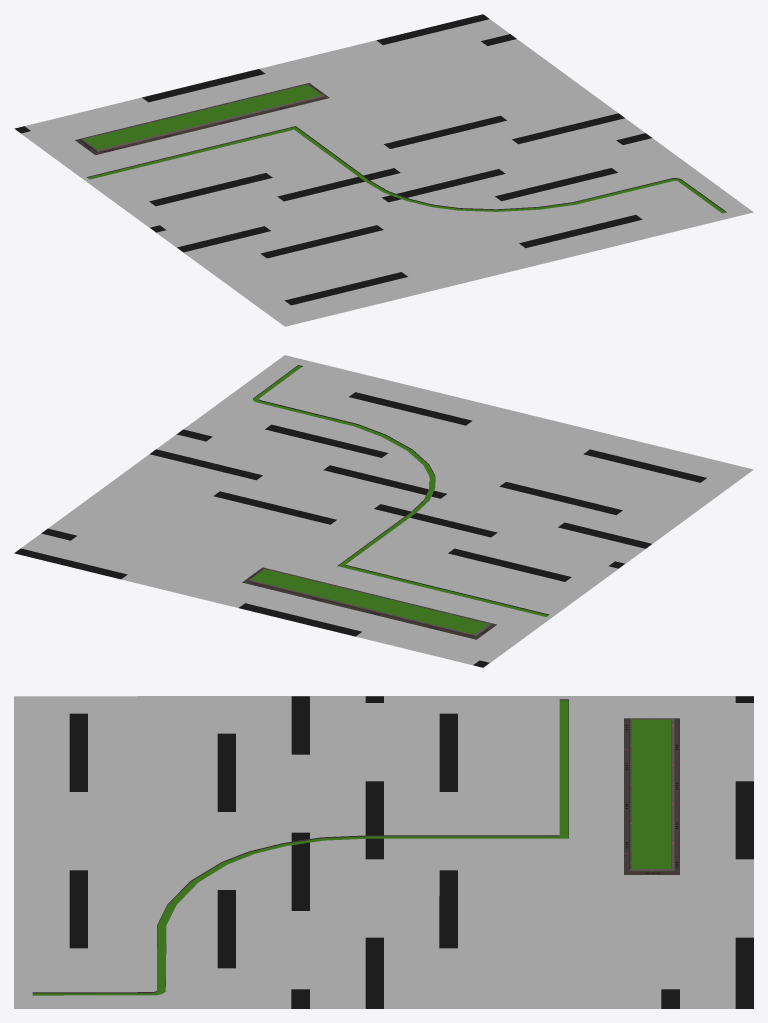
Rendered from W_M_32x32_R0_Park_Floor_b_L1.fbx.
3 renders of one model, top to bottom at view 1: azimuth 30°, elevation 25°; view 2: azimuth 150°, elevation 25°; view 3: azimuth 270°, elevation 25°, orthographic. The views are drawn at different scales.
Parts seen in each view (by area): view 1: W_M_32x32_R0_Park_Floor_b_L1; view 2: W_M_32x32_R0_Park_Floor_b_L1; view 3: W_M_32x32_R0_Park_Floor_b_L1.
Part boxes in pixels (left/top/right/bottom): W_M_32x32_R0_Park_Floor_b_L1: left=14, top=14, right=753, bottom=326; W_M_32x32_R0_Park_Floor_b_L1: left=14, top=355, right=753, bottom=667; W_M_32x32_R0_Park_Floor_b_L1: left=14, top=696, right=753, bottom=1008.
Size of the model in its own units: 32.02 by 0.1695 by 32.
